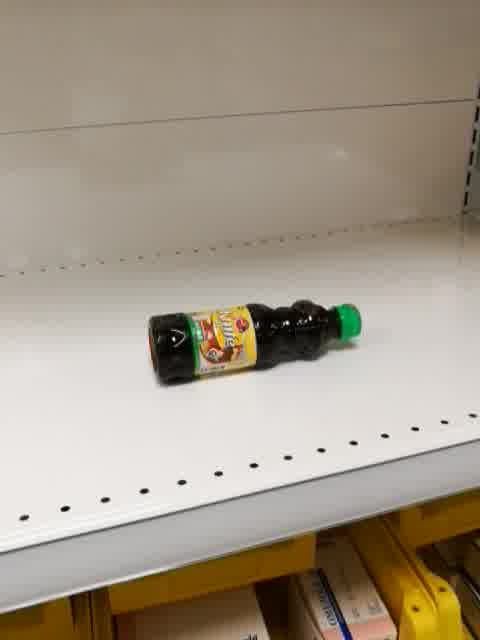cookingoil: (145, 294, 366, 390)
